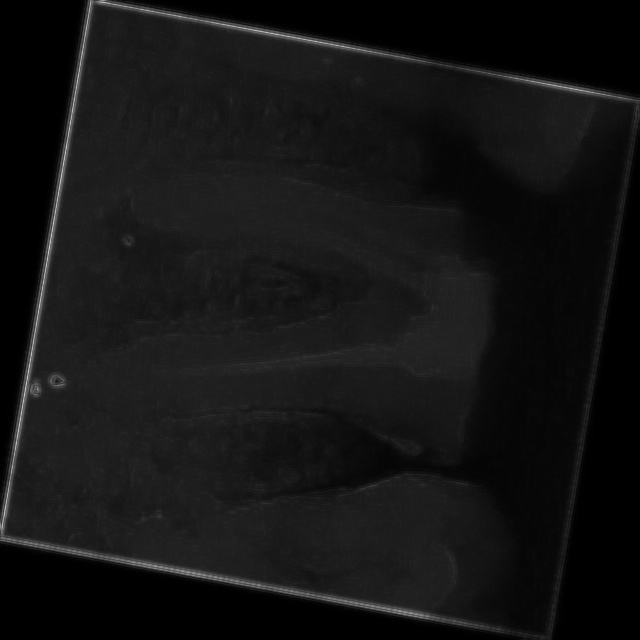Class 1- complete endodontic treatment: (41, 114, 548, 514)
